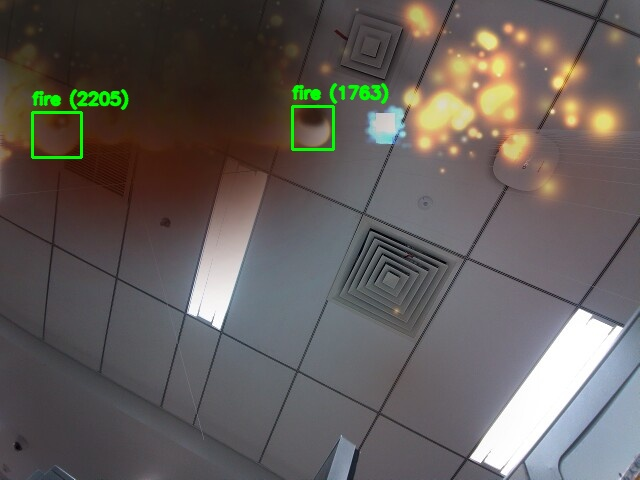fire: (32, 112, 81, 157), (292, 106, 333, 149)
